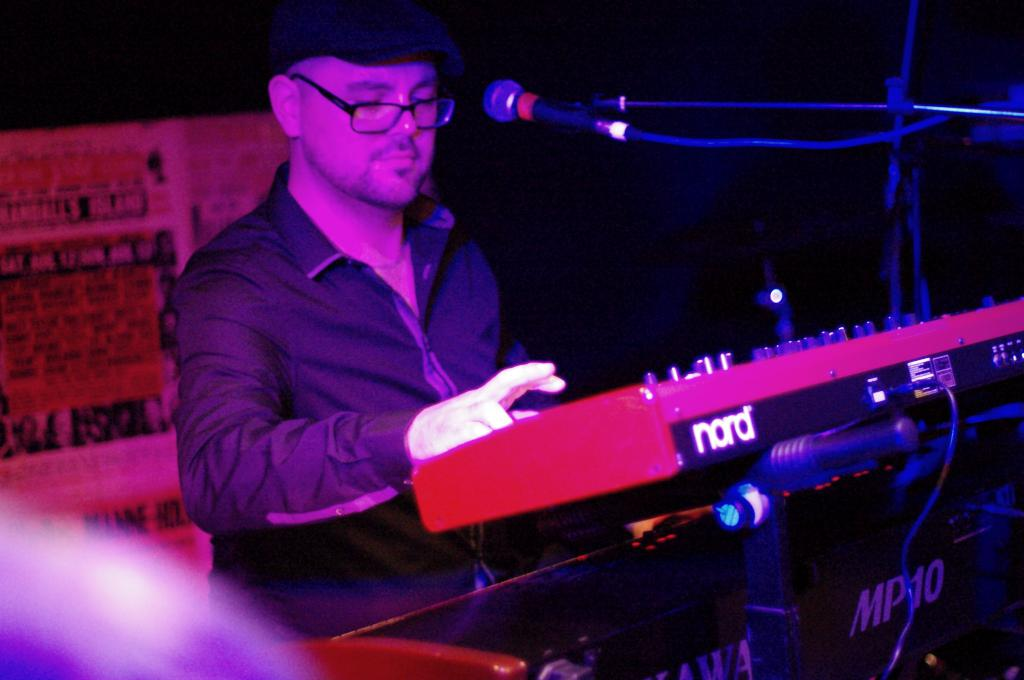Person: (171, 0, 565, 642)
